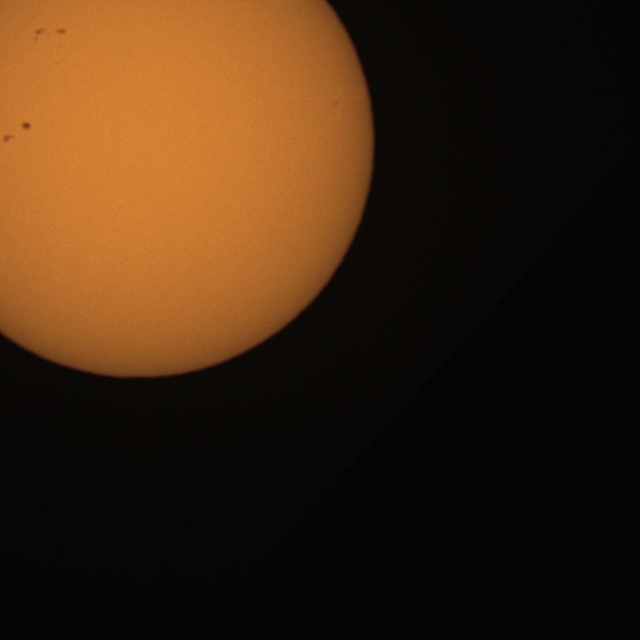sunspot: (3, 121, 32, 144), (33, 27, 62, 43), (2, 132, 15, 144), (21, 121, 32, 131)
